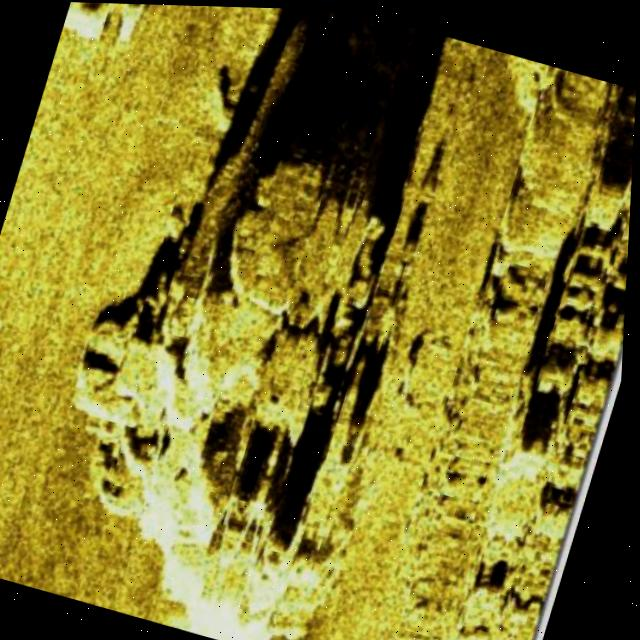bedrock group: (20, 78, 476, 640), (347, 48, 638, 640)
